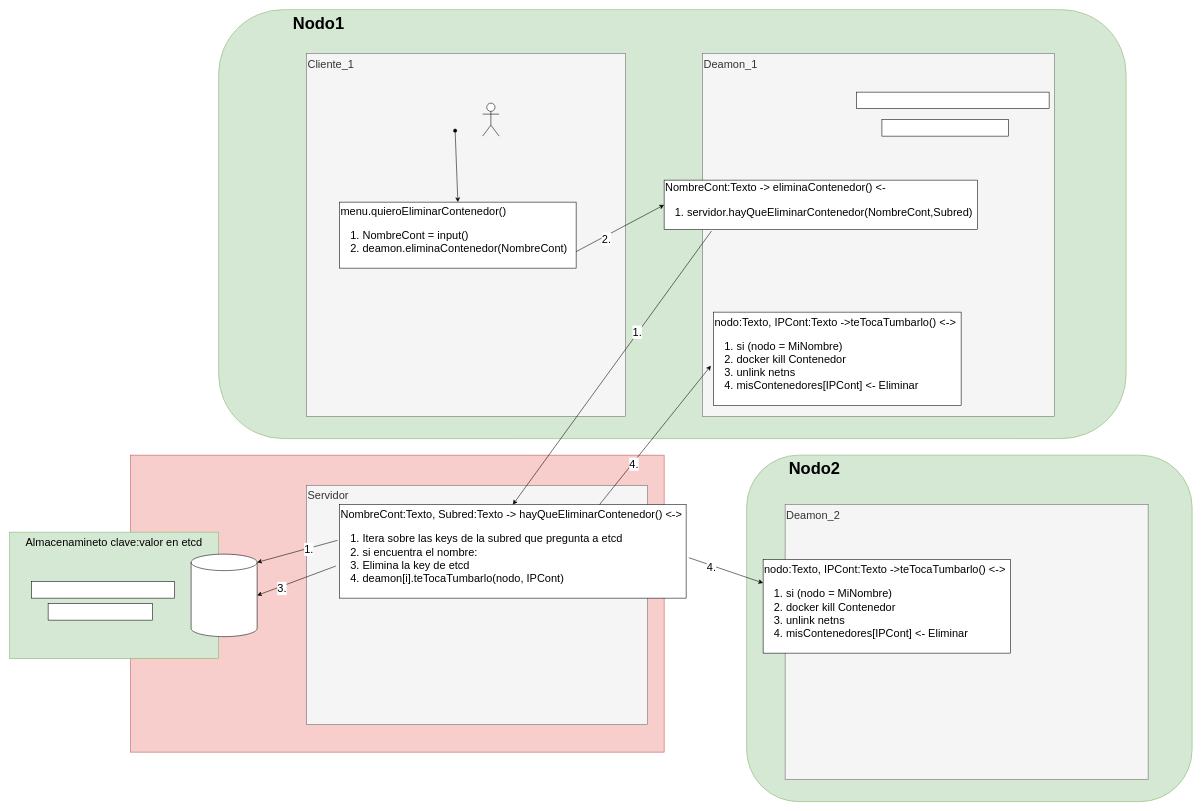
The diagram is 1202 pixels wide and 811 high, and some of its shapes have lost their labels. Here are the shapes that lost their labels. From the top down, the centre of each, then its label:
At point 490,119: "Actor".
At point 952,100: "misContenedores:[objetoContenedor]".
At point 944,127: "objetoContenedor:JSON".
At point 103,589: "Objeto: bridge||Contenedor".
At point 224,595: "etcd".
At point 100,611: "IP:{IP,Nodo,Objeto}".
